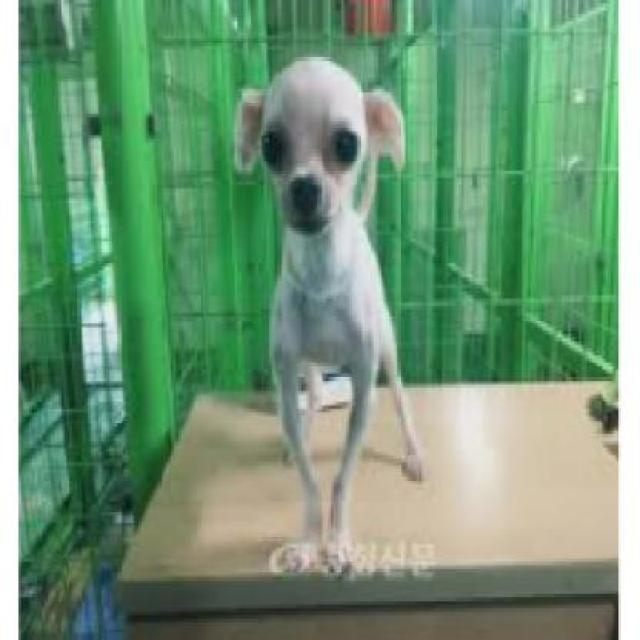Dog: (229, 51, 437, 529)
